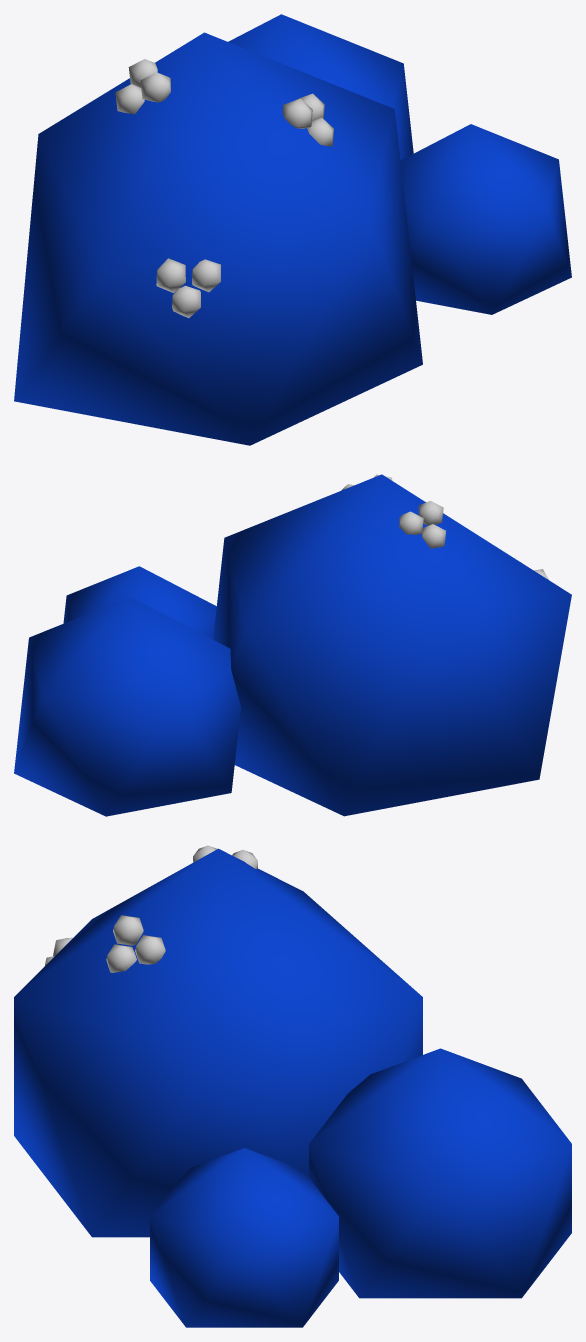
File: Bush1.obj
3 views of the same model, one above another, from view 1: azimuth 30°, elevation 25°; view 2: azimuth 150°, elevation 25°; view 3: azimuth 270°, elevation 25° (orthographic). The views are drawn at different scales.
Bounding box in the file's own units: 2.3 × 1.27 × 2.03.
